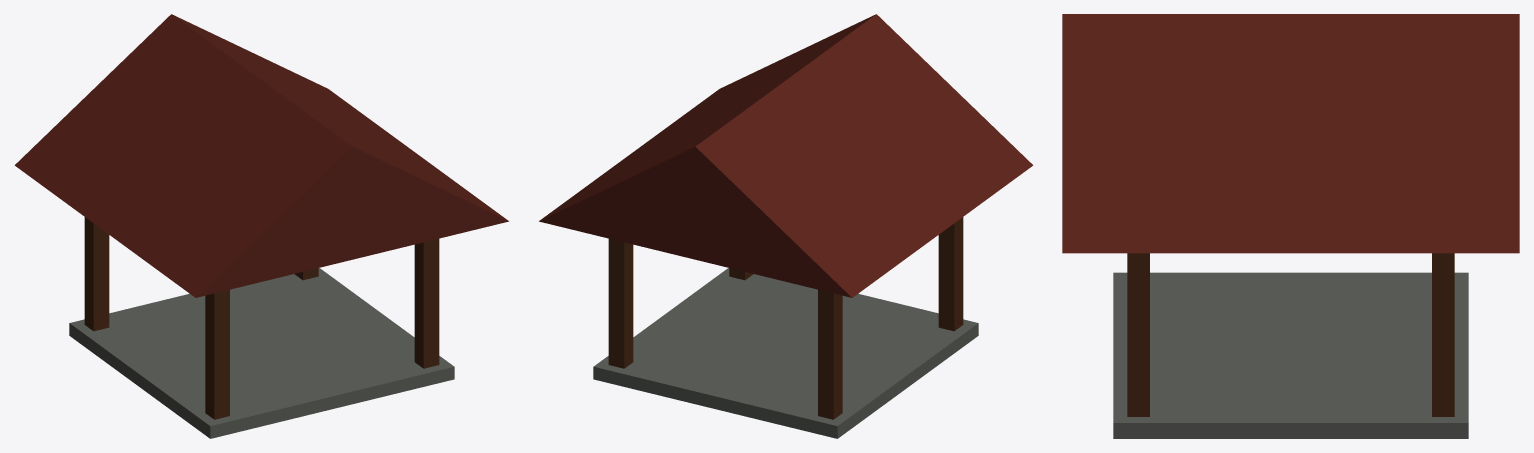
The model's file is pavilion.obj.
The picture shows the model from 3 angles, left to right: view 1: azimuth 30°, elevation 25°; view 2: azimuth 150°, elevation 25°; view 3: azimuth 270°, elevation 25°; orthographic projection. The views are drawn at different scales.
Visible parts, largest first — view 1: StoryWorld_Pavilion; view 2: StoryWorld_Pavilion; view 3: StoryWorld_Pavilion.
Part boxes in pixels (x1,y1,x2,y2): StoryWorld_Pavilion: (14,14,508,438); StoryWorld_Pavilion: (539,14,1033,438); StoryWorld_Pavilion: (1062,14,1519,438).
Bounding box in the file's own units: 9 × 7.6 × 9.
